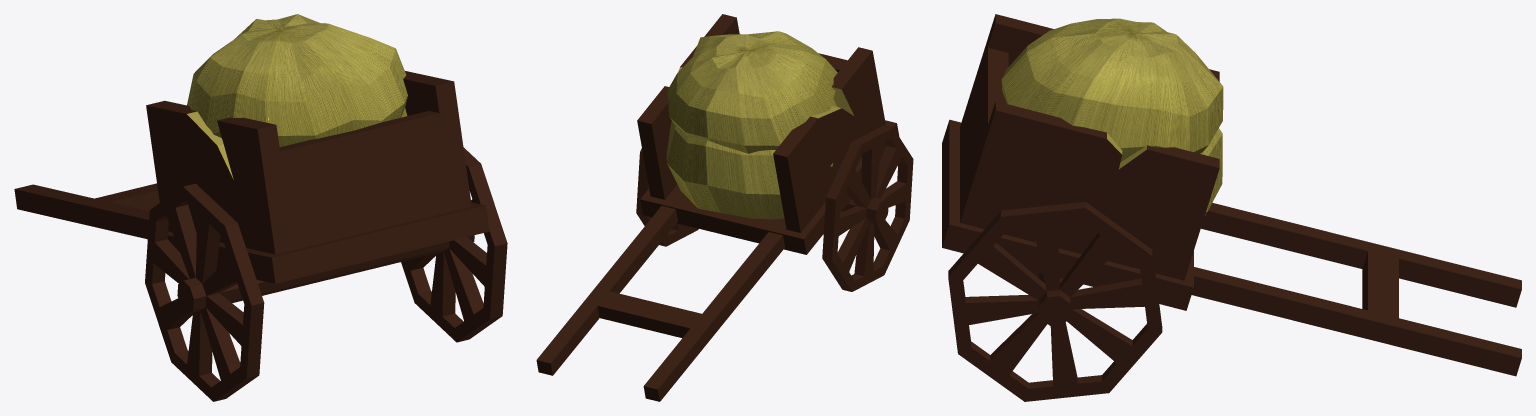
Rendered from CarrinhoDFeno_V0.6.fbx.
3 views of the same model, side by side, from view 1: azimuth 30°, elevation 25°; view 2: azimuth 150°, elevation 25°; view 3: azimuth 270°, elevation 25° (orthographic). The views are drawn at different scales.
Visible parts, largest first — view 1: CarrinhoFeno; view 2: CarrinhoFeno; view 3: CarrinhoFeno.
Part boxes in pixels (left/top/right/bottom): CarrinhoFeno: left=14, top=14, right=507, bottom=401; CarrinhoFeno: left=536, top=14, right=913, bottom=401; CarrinhoFeno: left=942, top=14, right=1521, bottom=401.
Size of the model in its own units: 132 by 138 by 236.
2 materials, 2 textured.
